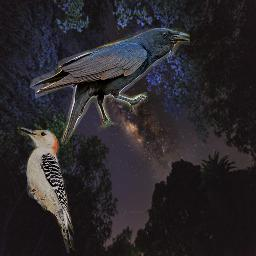Crow: (30, 28, 190, 145)
Woodpecker: (17, 122, 77, 253)
